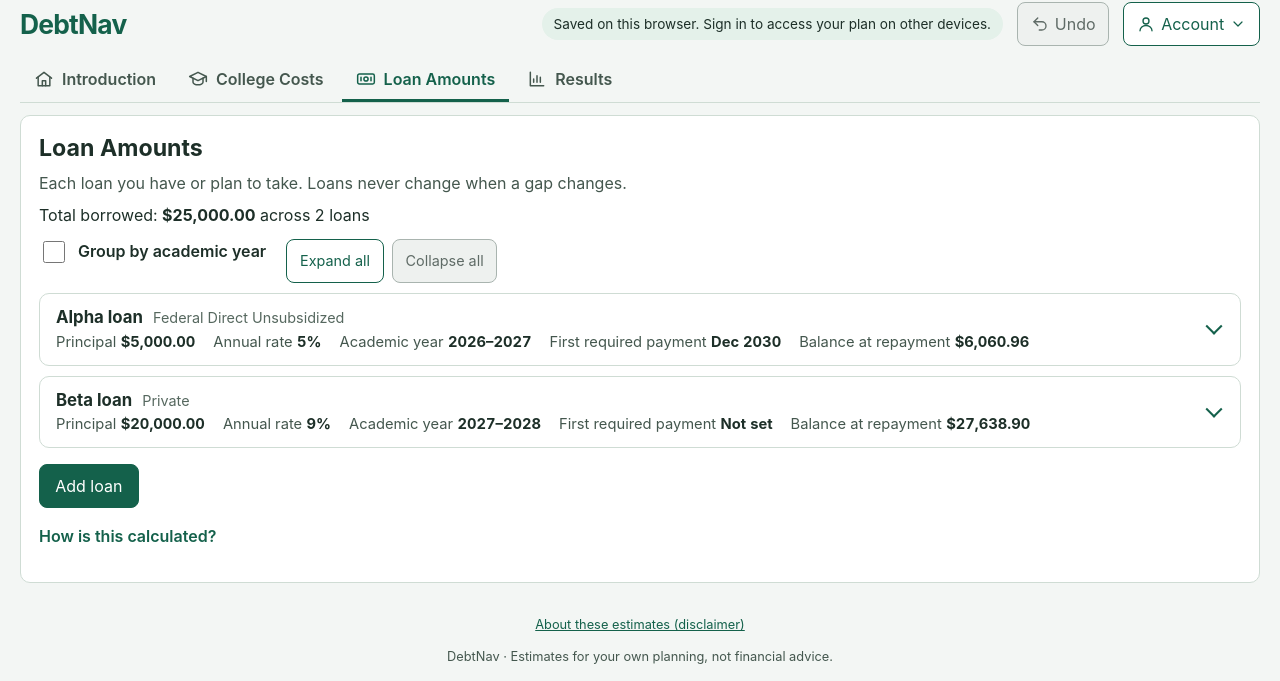
Test: loan cards › opens a gap-created loan while retaining valid edits across dashboards
This screenshot has width=1280, height=681.
Click the button that starts with "Alpha loan": (100,317) [40,294,1240,364]
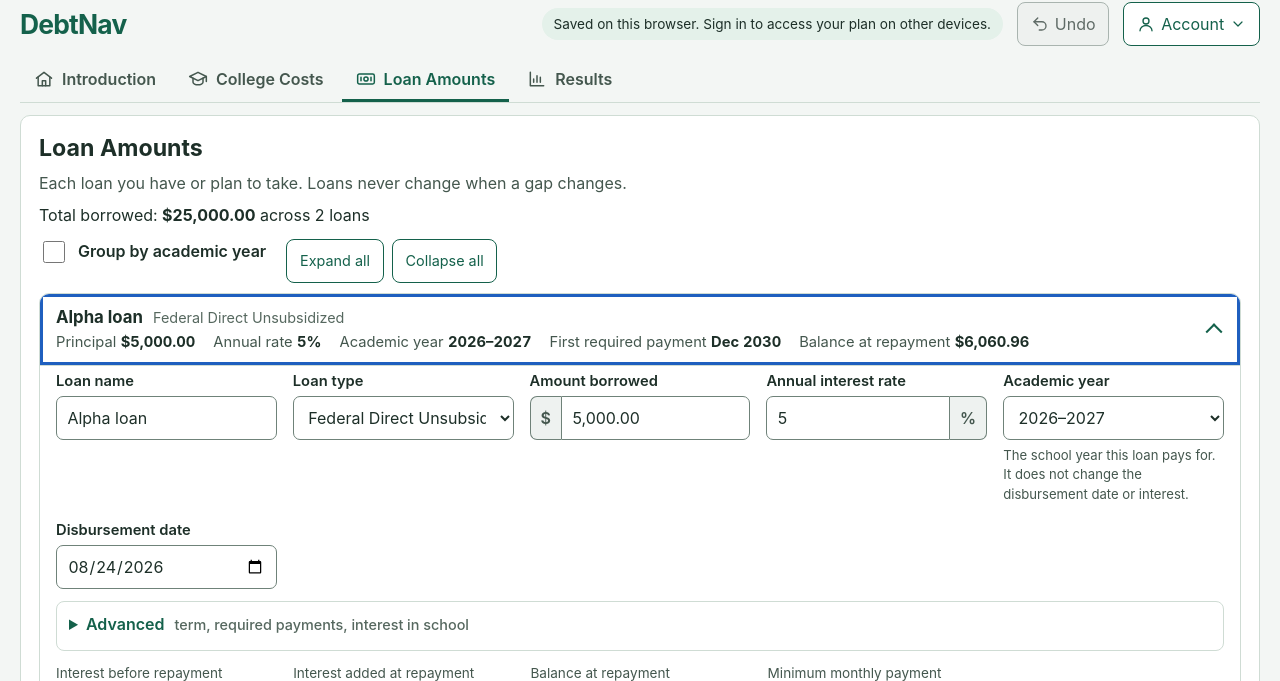
Clear the field with id "loans": (656,418) [561,396,750,440]
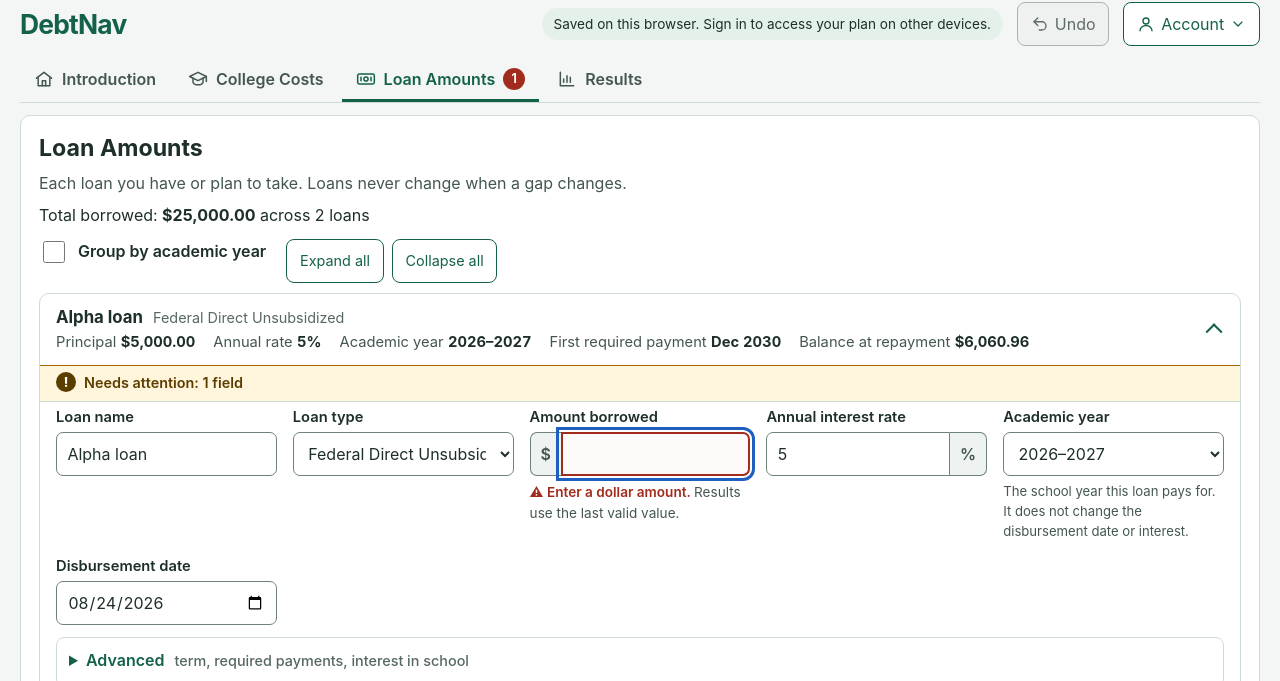
In the field with id "loans": (656,454) [561,432,750,476], type "1100"
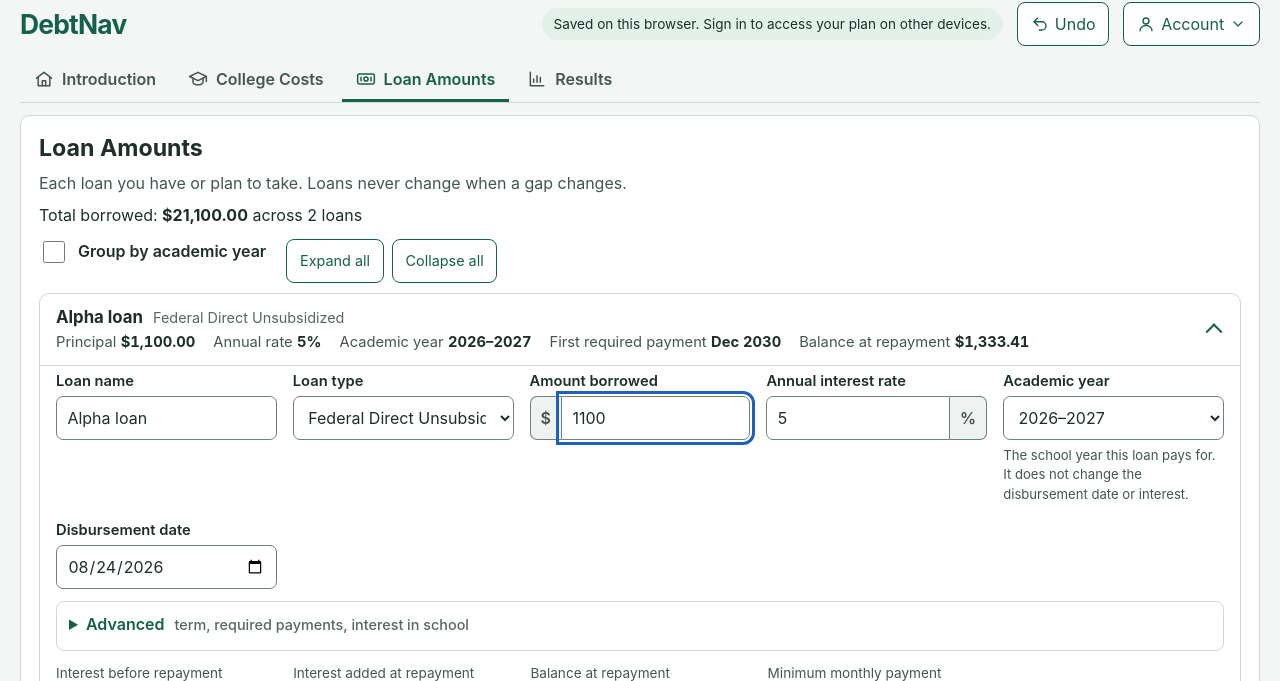
Click the link "College Costs": (256,78) [188,68,324,88]
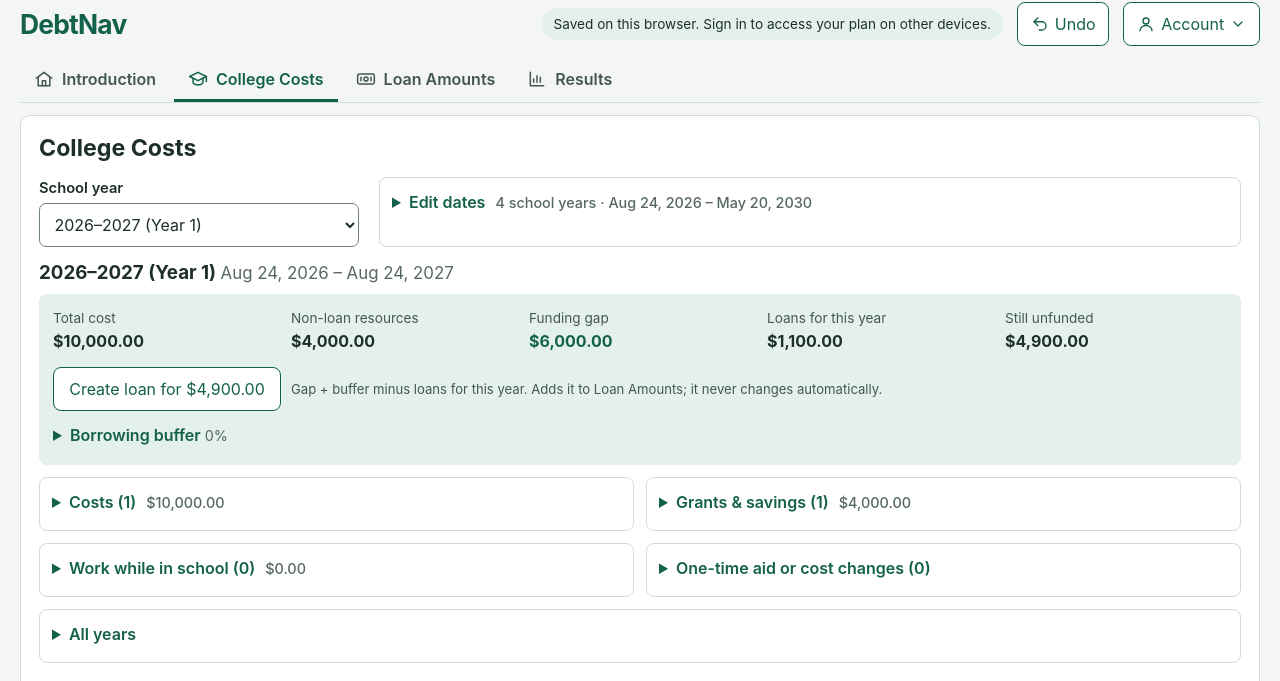
Click the button "Create loan for $4,900.00": (167,389) [53,367,281,411]
(page scrolled)
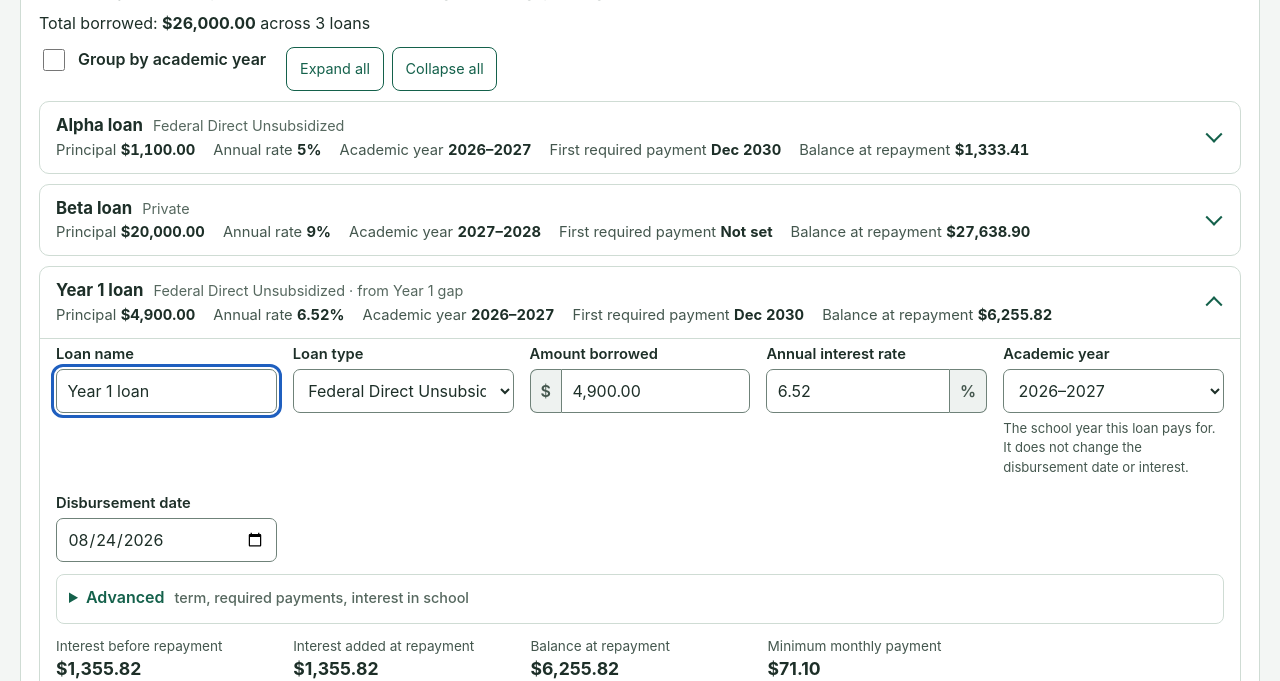
Click the button that starts with "Alpha loan": (100,125) [40,102,1240,172]
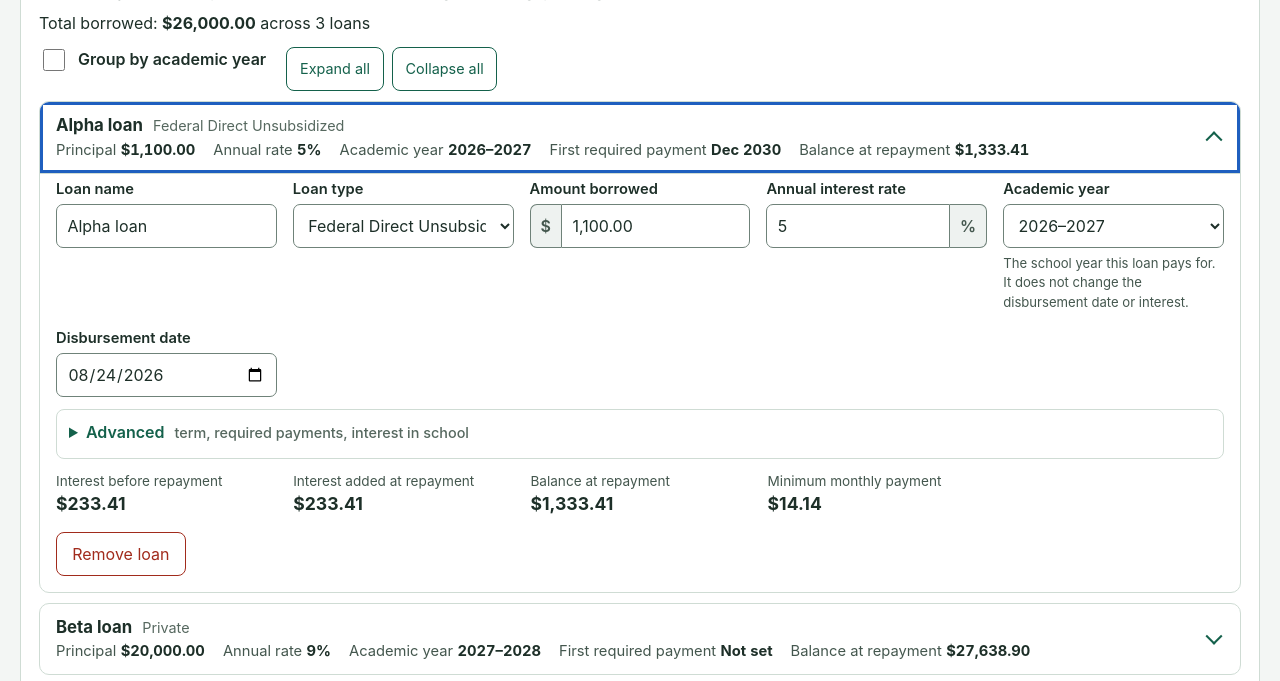
Result: the field with id "loans" holds "1,100.00" at [561,204,750,248]
